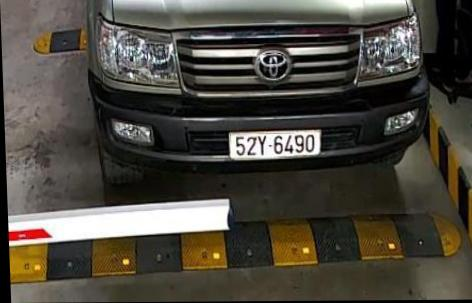License_Plate: (225, 126, 324, 164)
